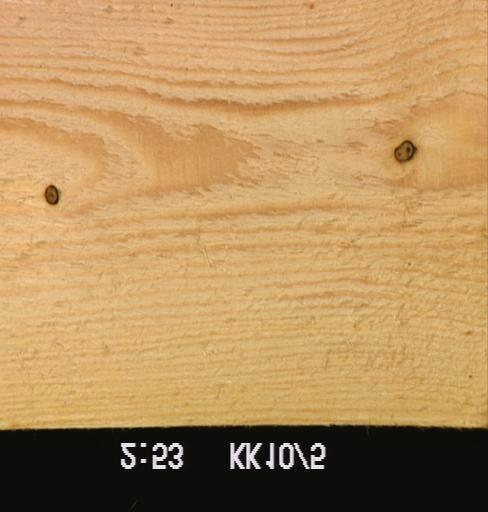dry_knot: (392, 138, 418, 163), (42, 182, 60, 206)
